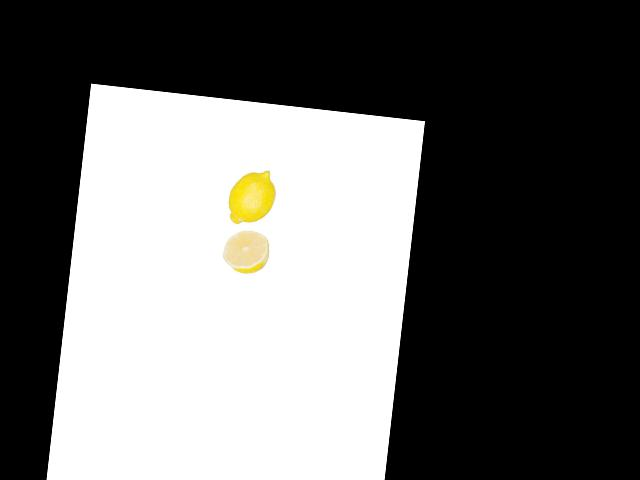lemon: (225, 168, 278, 228)
